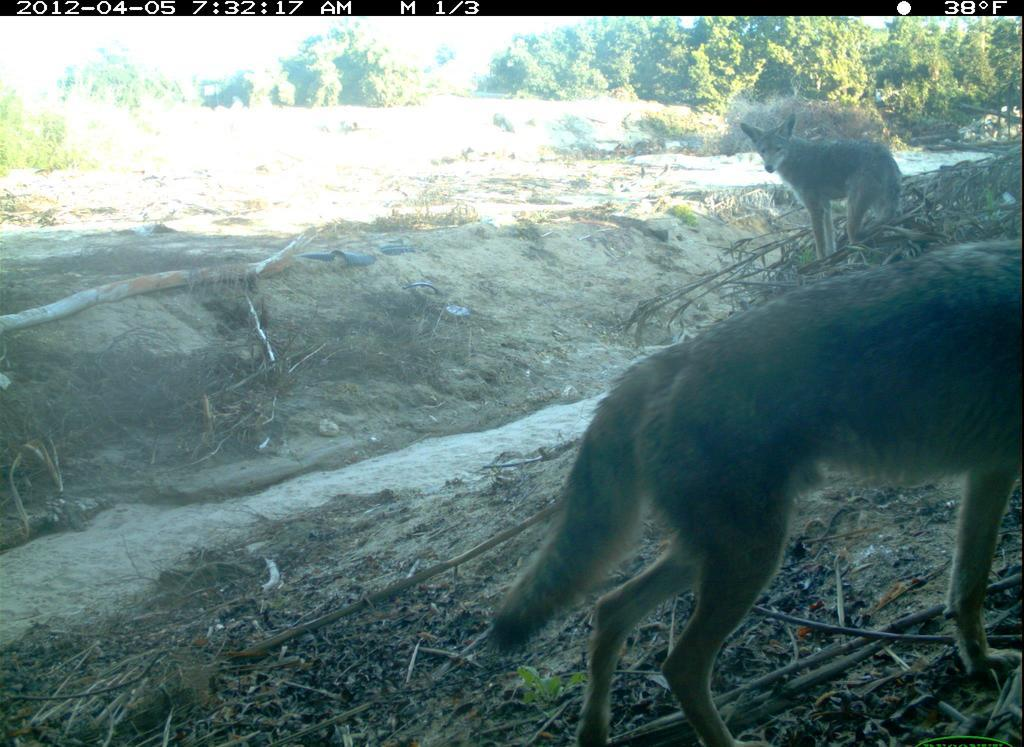coyote: (475, 245, 1024, 747), (728, 107, 950, 272)
